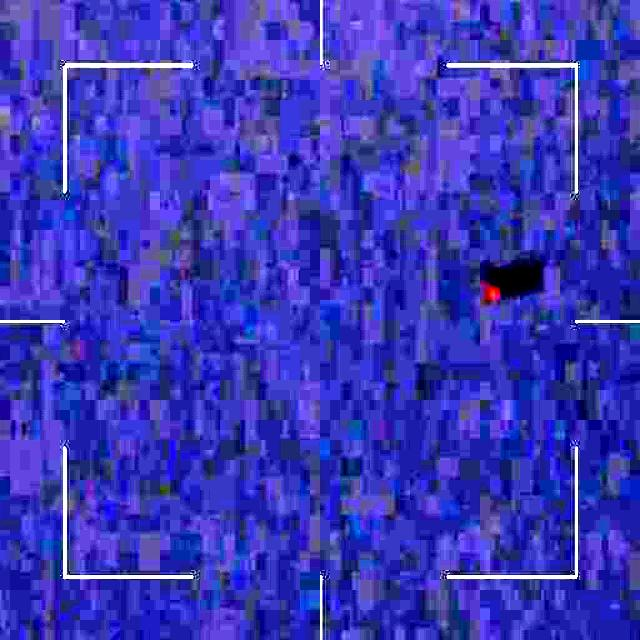bird: (472, 262, 509, 314)
